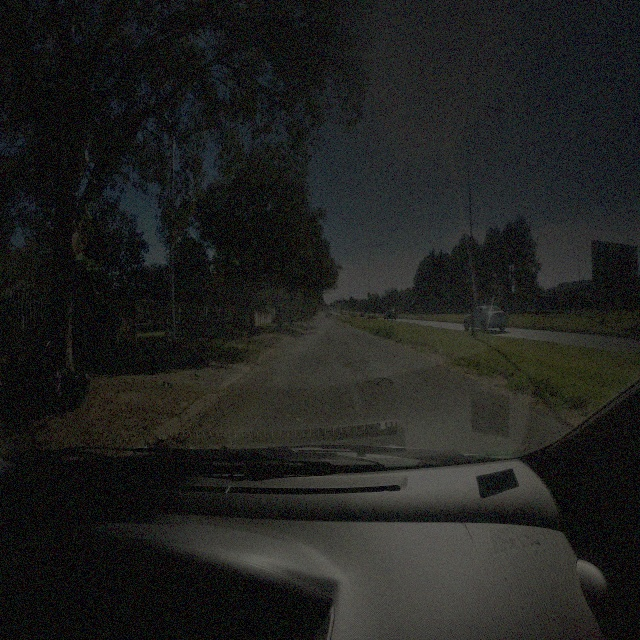pothole: (365, 374, 394, 386), (341, 358, 357, 369), (359, 358, 370, 364), (339, 340, 348, 344)
